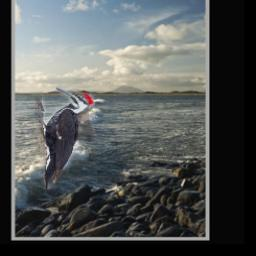Woodpecker: (34, 87, 94, 189)
